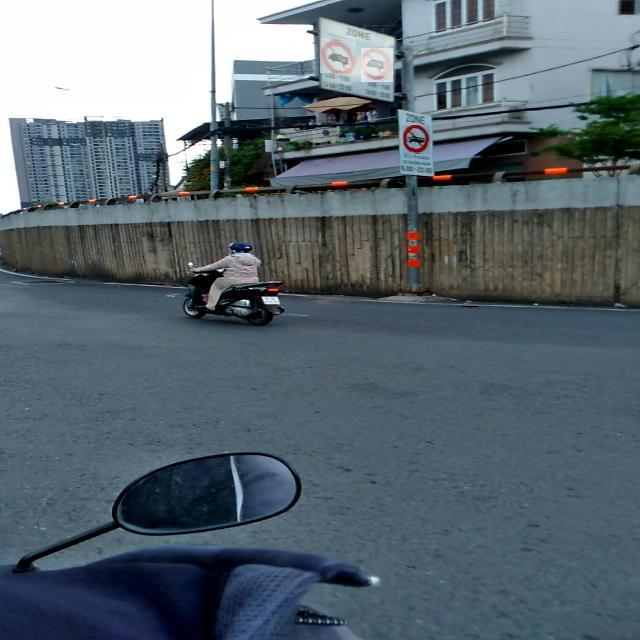P-106b: (321, 39, 357, 73), (361, 48, 393, 82)
P-107a: (403, 125, 430, 154)
